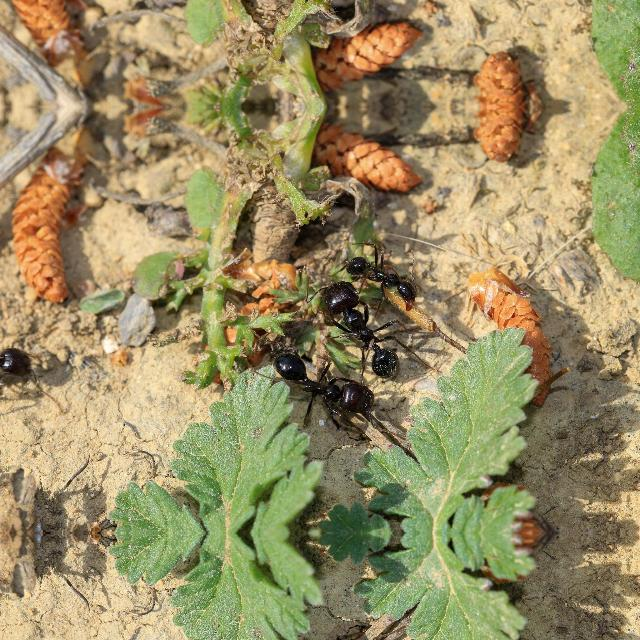Messor: (266, 341, 398, 427), (312, 280, 406, 382), (347, 238, 437, 312), (0, 327, 34, 393)
